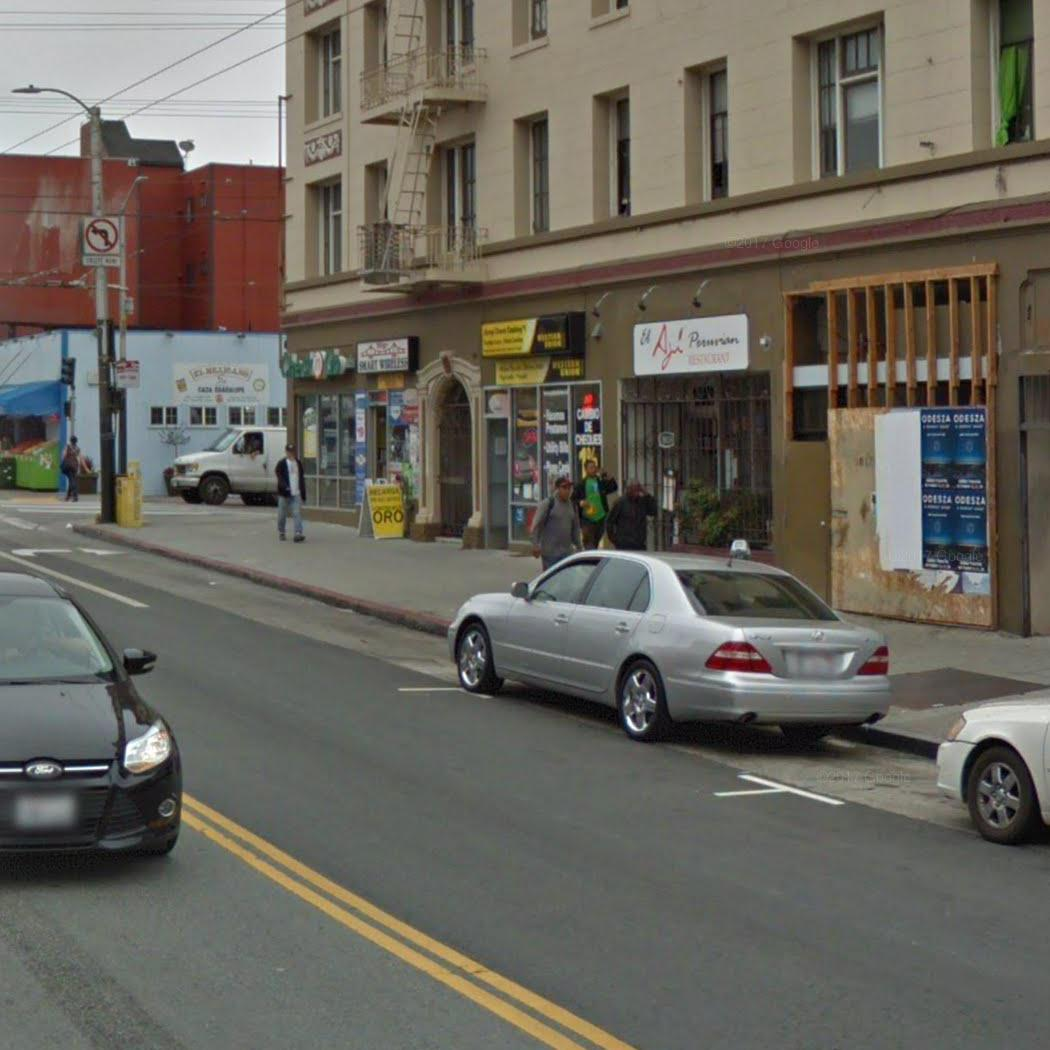No Parking: (112, 356, 144, 392)
